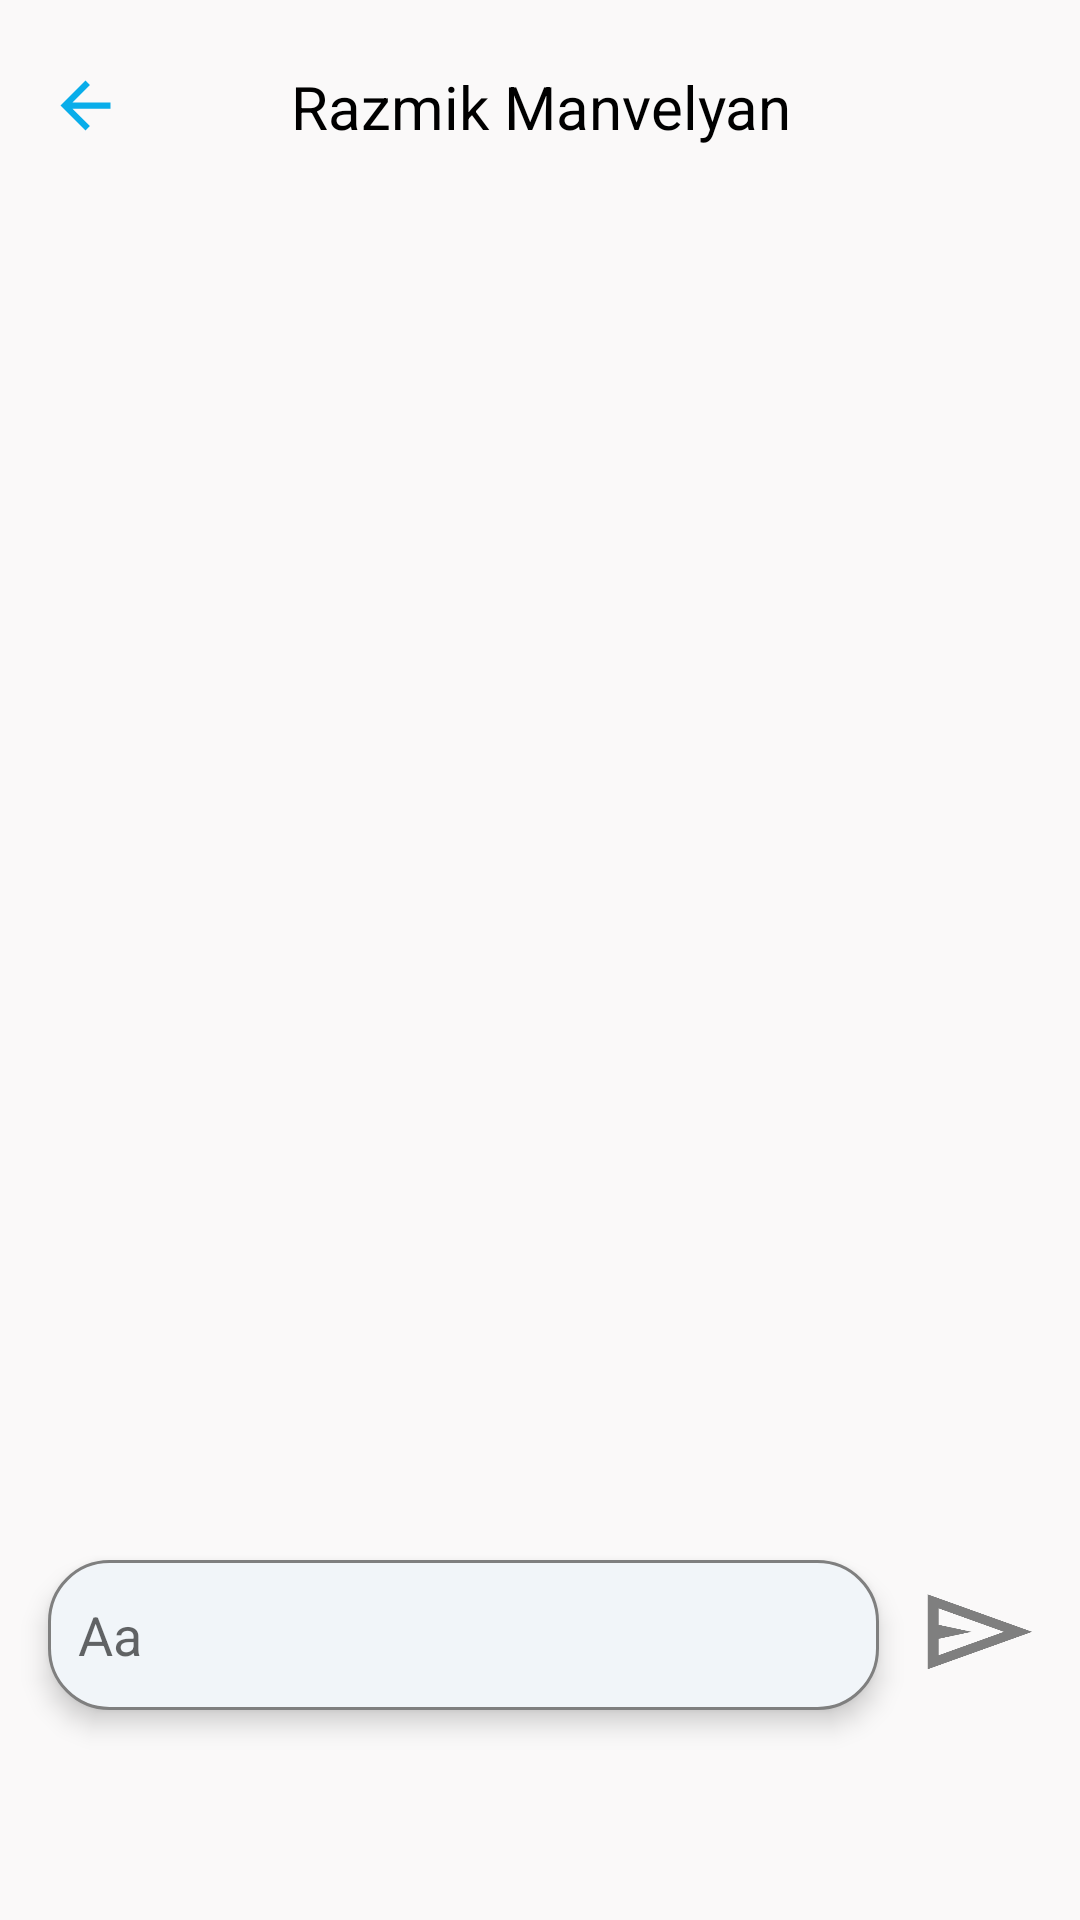

Where to tap for icons on this 1080x1920 app screen, as point (x, y):
back: point (85, 105)
send: point (979, 1631)
